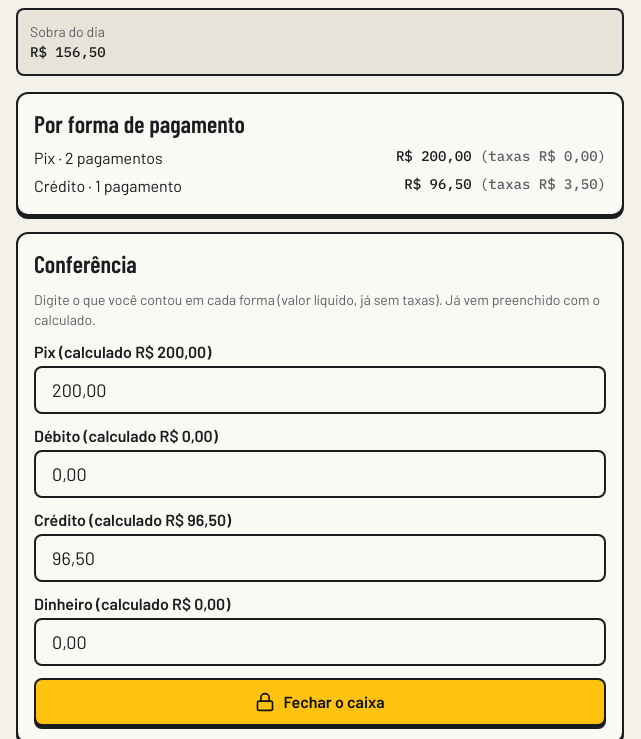
Test: Caixa do dia › mostra a mensagem da API se o caixa já foi fechado (409)
(page scrolled)
Click the button "Fechar o caixa": {"x": 320, "y": 702} [34,678,606,726]
(page scrolled)
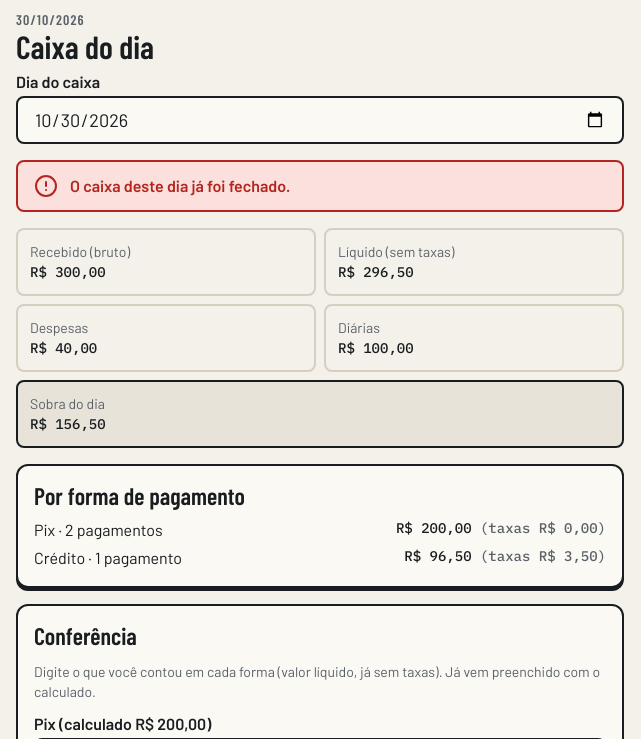
expect the message reads "O caixa deste dia já foi fechado.": met, box [70,176,290,195]
